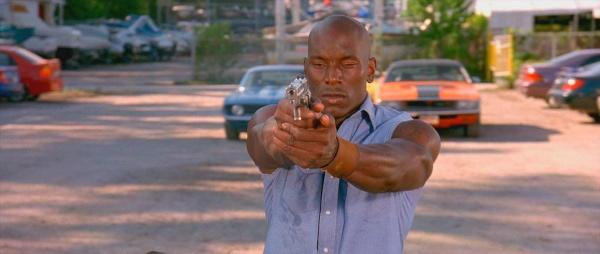Gun: (287, 77, 312, 119)
